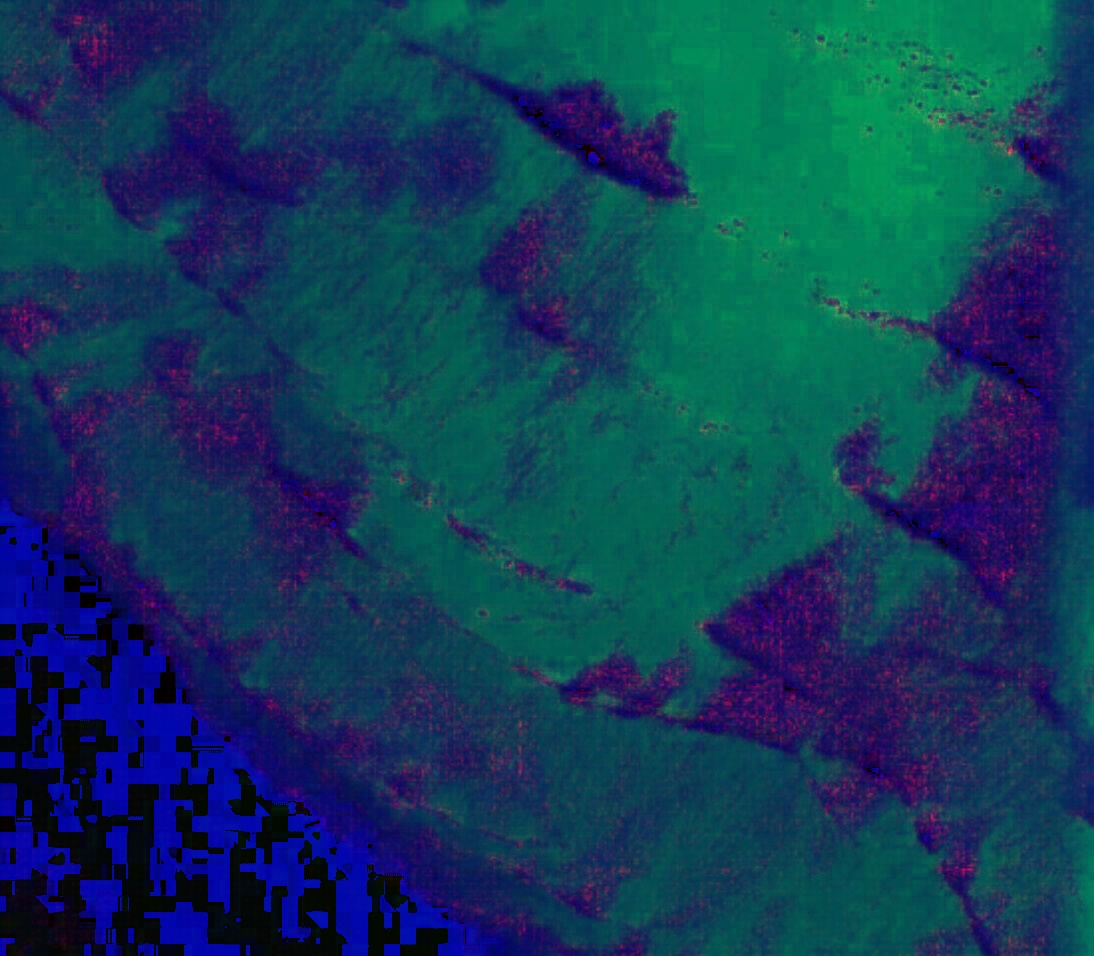rip_current: (427, 103, 982, 737)
